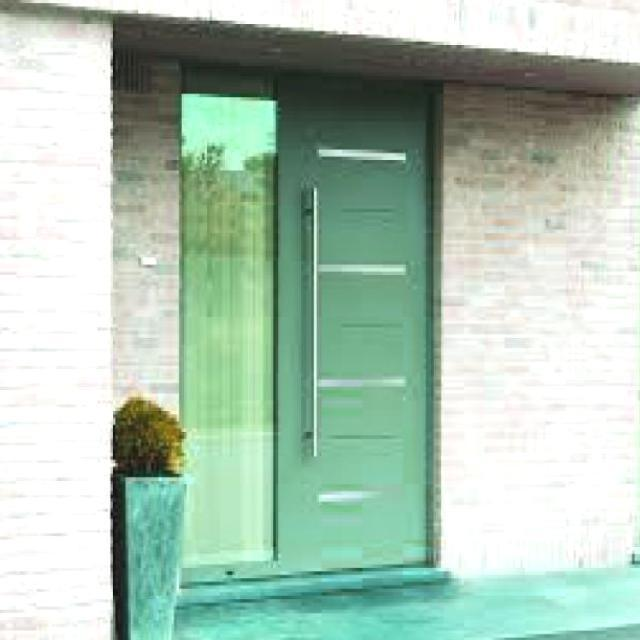door: (273, 74, 433, 572)
